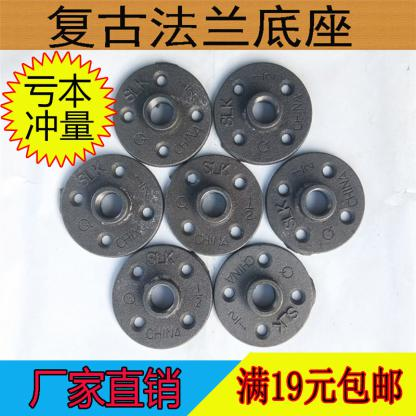FOD: (58, 152, 166, 259), (110, 241, 216, 350), (110, 59, 214, 170), (213, 244, 319, 352), (266, 147, 369, 258), (213, 60, 314, 168), (164, 150, 263, 256)
